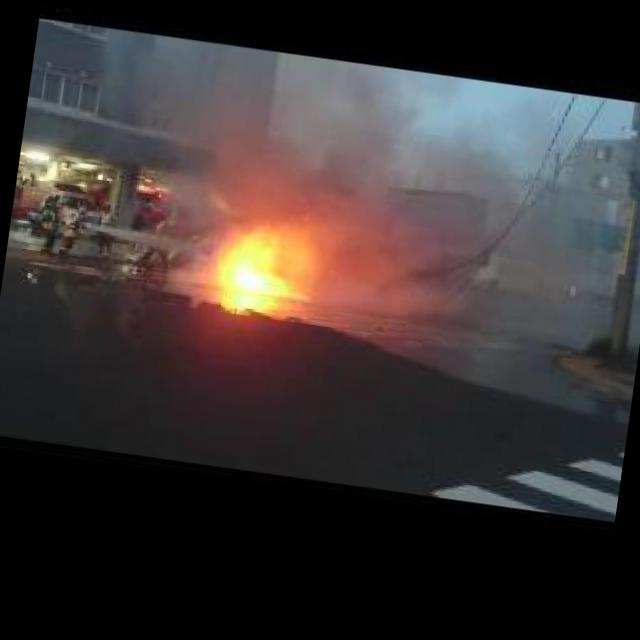fire: (212, 222, 318, 300)
smoke: (100, 44, 322, 227), (306, 80, 416, 251)
